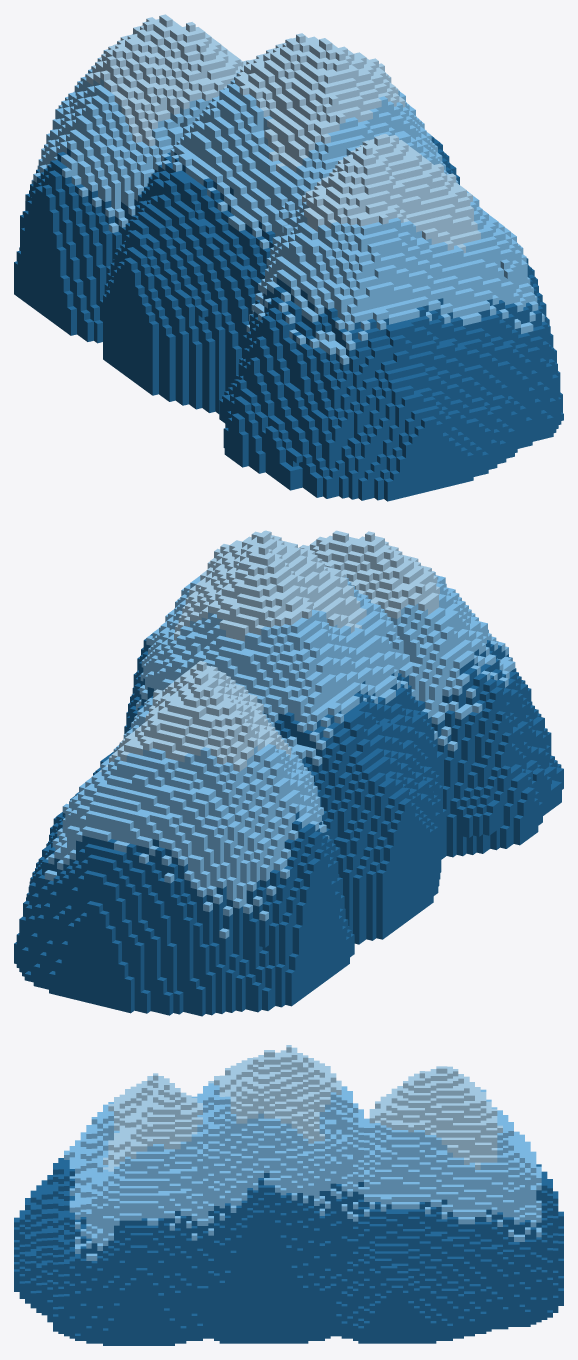
File: MtnRange.obj
The picture shows the model from 3 angles, top to bottom: view 1: azimuth 30°, elevation 25°; view 2: azimuth 150°, elevation 25°; view 3: azimuth 270°, elevation 25°; orthographic projection. The views are drawn at different scales.
Visible parts, largest first — view 1: MtnRange; view 2: MtnRange; view 3: MtnRange.
Part boxes in pixels (x1,y1,x2,y2): MtnRange: (14, 14, 563, 501); MtnRange: (14, 530, 563, 1016); MtnRange: (14, 1045, 563, 1345).
Size of the model in its own units: 49 by 49 by 99.
Materials: 1 (1 with a texture image).
